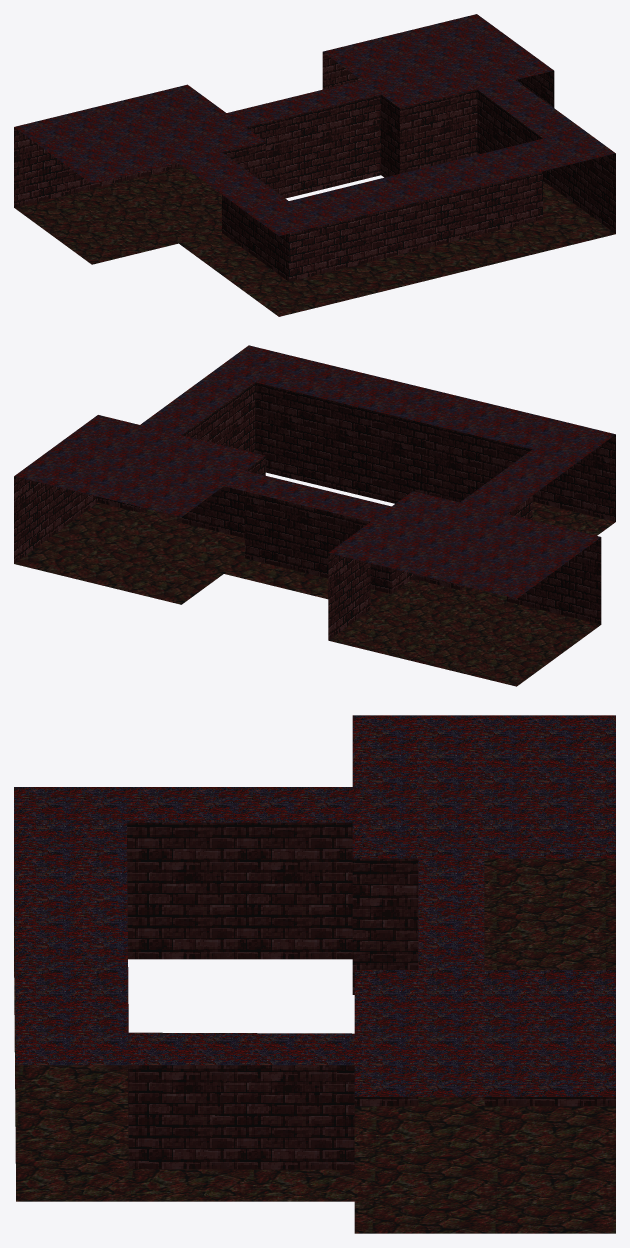
File: doom game.glb
3 views of the same model, one above another, from view 1: azimuth 30°, elevation 25°; view 2: azimuth 150°, elevation 25°; view 3: azimuth 270°, elevation 25° (orthographic). The views are drawn at different scales.
Parts seen in each view (by area): view 1: Plane; view 2: Plane; view 3: Plane.
Boxes of the visible parts, <box> form: Plane: <box>14,14,615,316</box>; Plane: <box>14,345,615,686</box>; Plane: <box>14,715,615,1233</box>.
Bounding box in the file's own units: 24 × 4 × 16.
3 materials, 3 textured.
